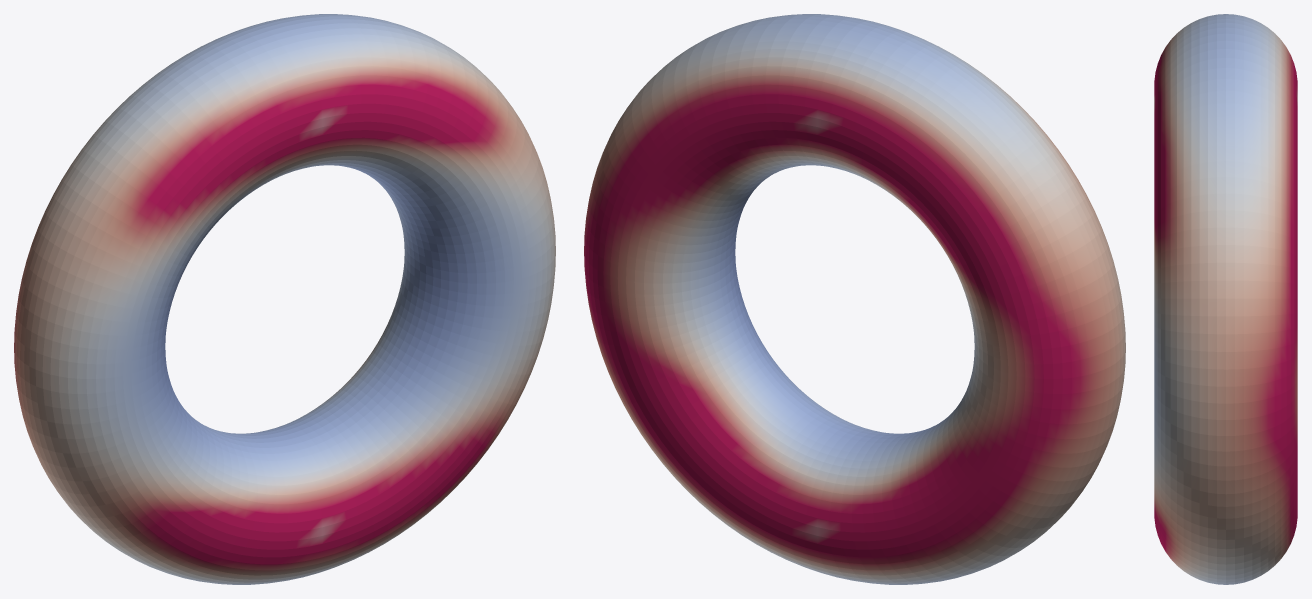
3 views of the same model, side by side, from view 1: azimuth 30°, elevation 25°; view 2: azimuth 150°, elevation 25°; view 3: azimuth 270°, elevation 25° (orthographic). The views are drawn at different scales.
Parts seen in each view (by area): view 1: world; view 2: world; view 3: world.
Boxes of the visible parts, x1,y1,x2,y2 form: world: (14, 14, 555, 584); world: (584, 14, 1125, 584); world: (1154, 14, 1297, 584).
Bounding box in the file's own units: 24.93 × 24.93 × 6.25.
